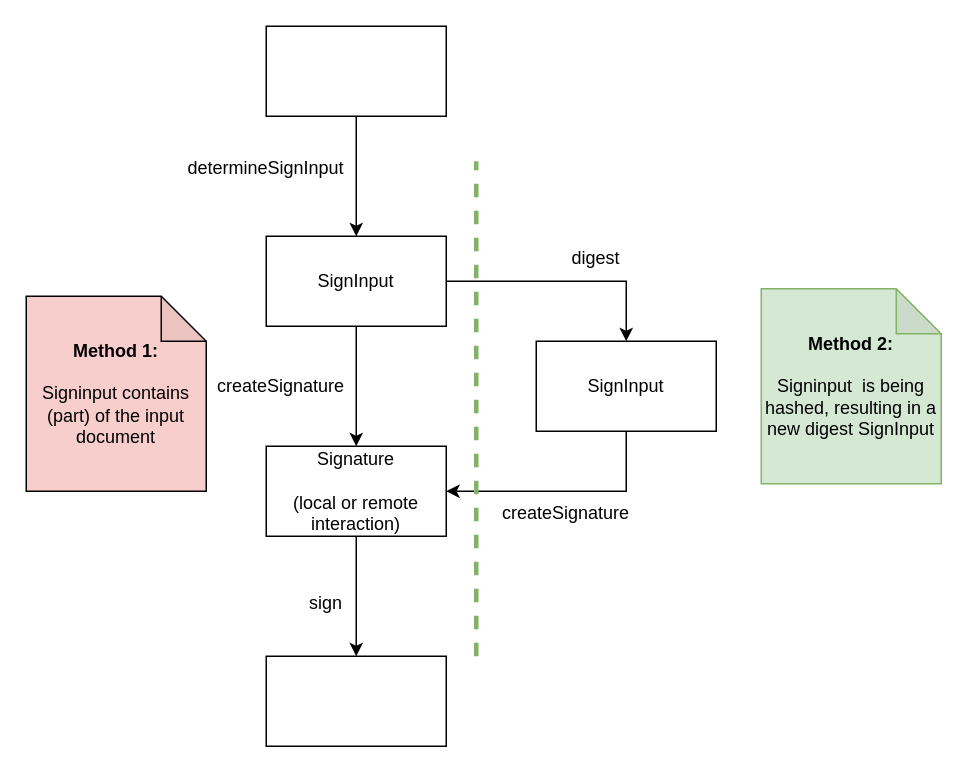
This 968x773 diagram has some shape labels left out. The shapes that lost their labels are listed below. From the top down, each one's centre as x and y in pixels, then its label:
point 355,70: OrigData
point 355,700: Signed Document
